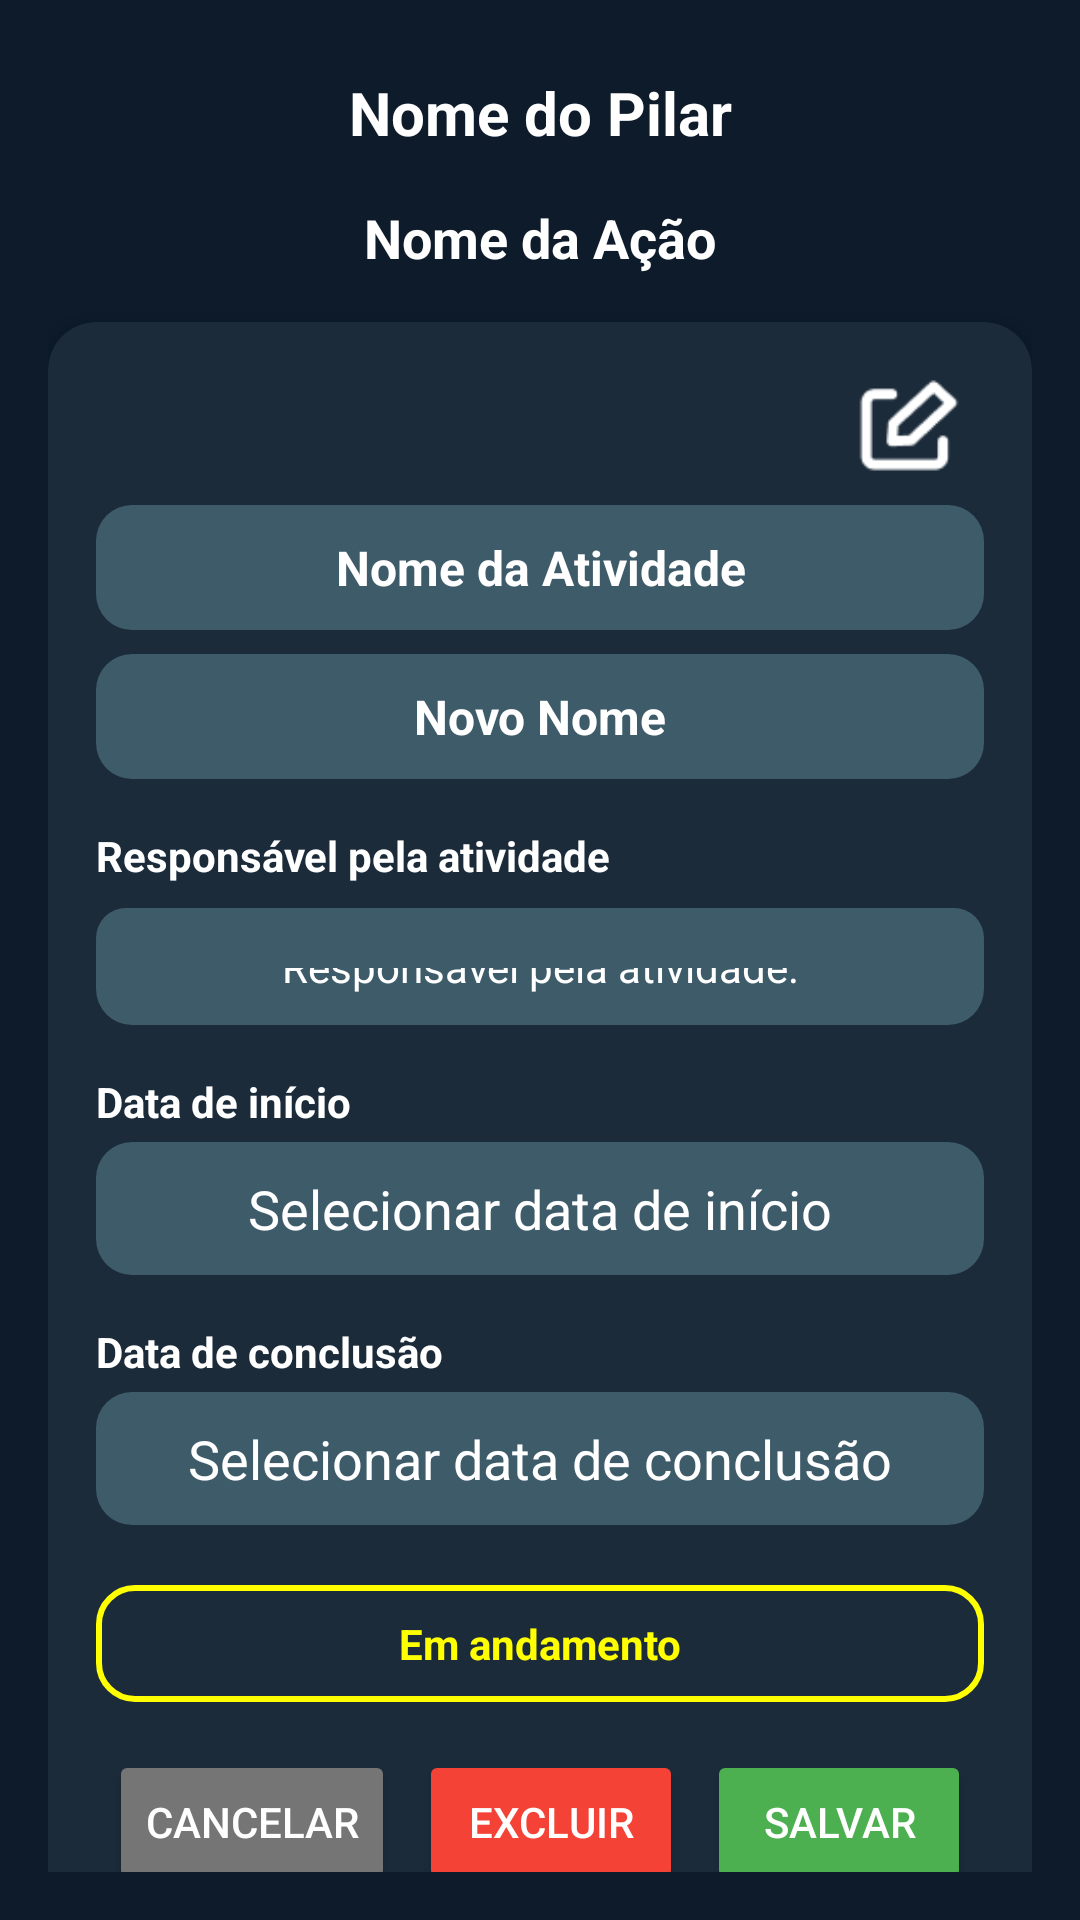

Point at icon controls on the screen. Image size 1080px x 1920px, points as (x=x, y=y).
Editar: (x=909, y=425)
